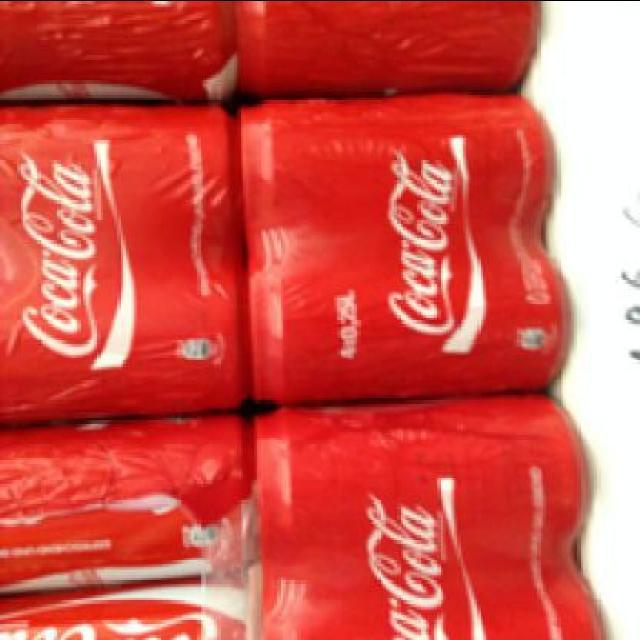Coke: (243, 94, 566, 403), (257, 400, 597, 638), (2, 104, 244, 428)
